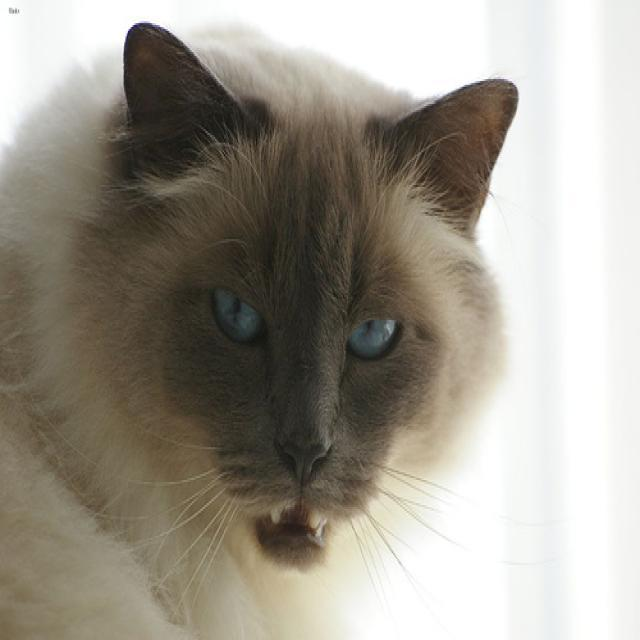Birman: (100, 14, 517, 637)
